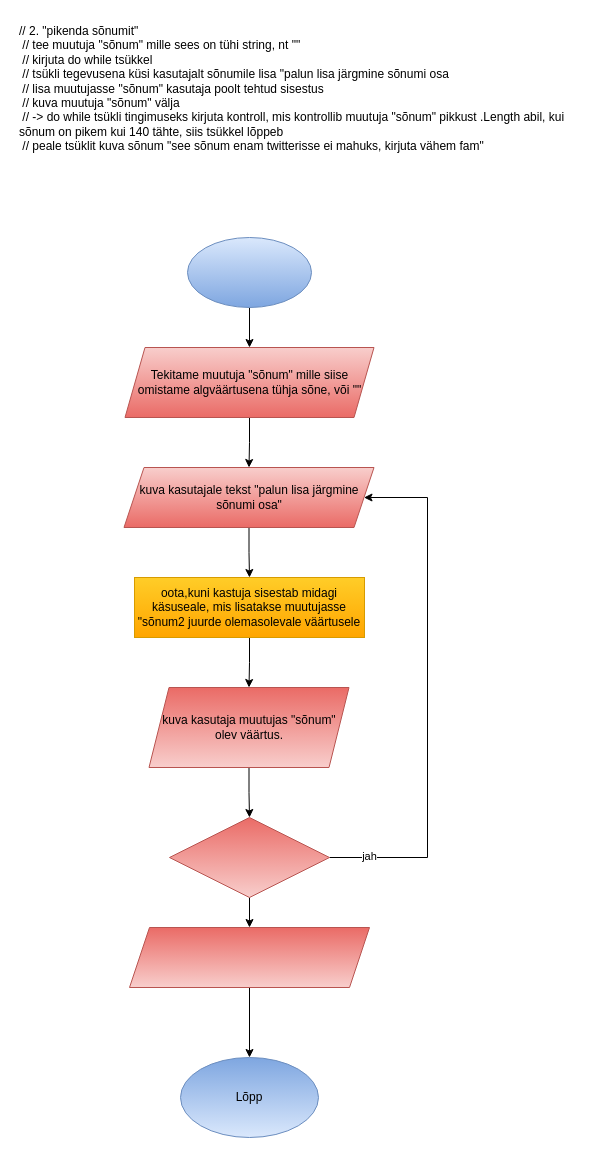
This 594x1155 diagram has some shape labels left out. Here are the shapes that lost their labels. From the top down, the centre of each, then its label:
[249,272]: Algus
[249,857]: kas muutujasse "sõnum2 olev väärtus on pikem kui 140 tähte
[249,957]: kuva kasutaja tekst2 see sõnum enam twitterese ei mahuks, kirjuta vähem fäm"
